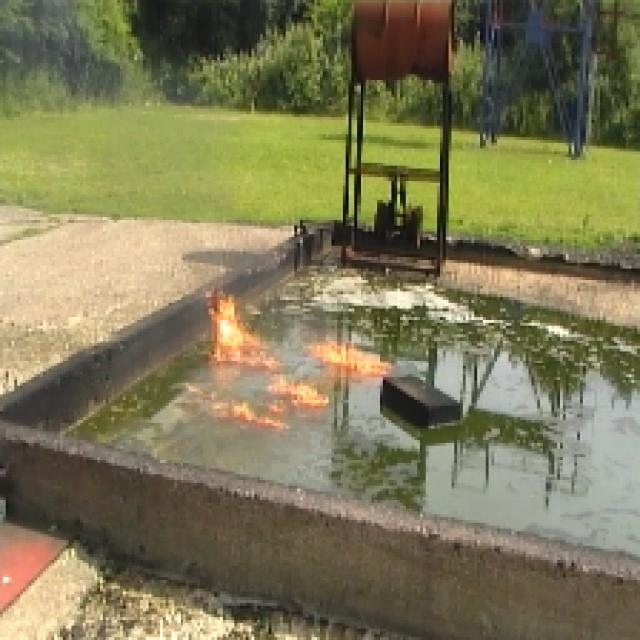Fire: (215, 286, 255, 336)
